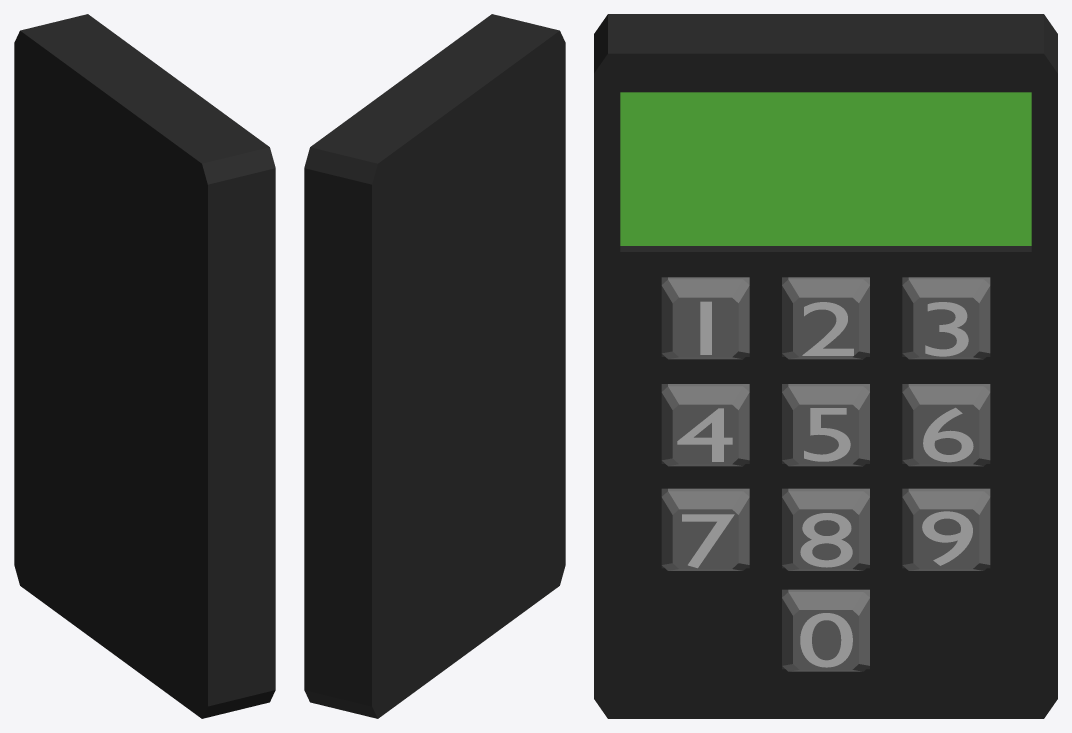
Rendered from tastierino.fbx.
3 views of the same model, side by side, from view 1: azimuth 30°, elevation 25°; view 2: azimuth 150°, elevation 25°; view 3: azimuth 270°, elevation 25° (orthographic). The views are drawn at different scales.
Visible parts, largest first — view 1: Cube; view 2: Cube; view 3: Cube, Cube.001, Cube.005, Cube.010, Cube.002, Cube.006, Cube.008, Cube.004, Cube.009, Cube.007, Cube.012, Cube.011 (+9 smaller).
Part boxes in pixels (left/top/right/bottom): Cube: left=14, top=14, right=275, bottom=718; Cube: left=304, top=14, right=565, bottom=718; Cube: left=594, top=14, right=1057, bottom=718; Cube.001: left=620, top=92, right=1031, bottom=245; Cube.005: left=661, top=277, right=749, bottom=359; Cube.010: left=661, top=488, right=749, bottom=570; Cube.002: left=902, top=277, right=990, bottom=359; Cube.006: left=661, top=384, right=749, bottom=466; Cube.008: left=782, top=384, right=869, bottom=466; Cube.004: left=782, top=277, right=869, bottom=359; Cube.009: left=902, top=488, right=990, bottom=570; Cube.007: left=902, top=384, right=990, bottom=466; Cube.012: left=782, top=589, right=869, bottom=671; Cube.011: left=782, top=488, right=869, bottom=570.
Size of the model in its own units: 20.39 by 125 by 79.
